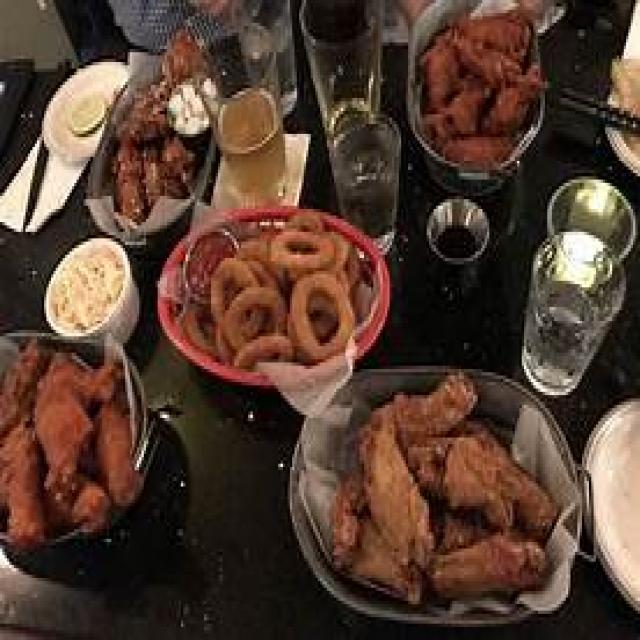Chicken Wings: (325, 376, 568, 604), (7, 327, 134, 555), (415, 10, 533, 170), (118, 59, 202, 212)
Onion Rings: (192, 228, 360, 352)
